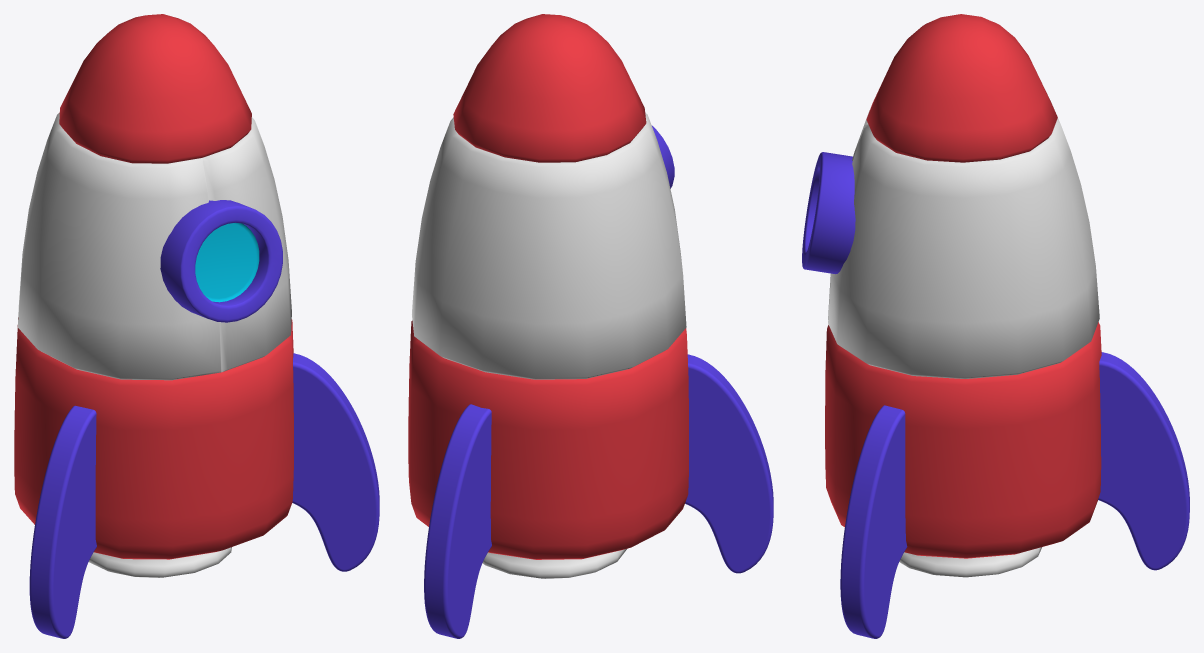
The model's file is rocket.glb.
The picture shows the model from 3 angles, left to right: view 1: azimuth 30°, elevation 25°; view 2: azimuth 150°, elevation 25°; view 3: azimuth 270°, elevation 25°; orthographic projection.
Parts seen in each view (by area): view 1: Rocket.Accent, Rocket.Base, Rocket.Detail, Rocket.Window; view 2: Rocket.Accent, Rocket.Base, Rocket.Detail; view 3: Rocket.Accent, Rocket.Base, Rocket.Detail.
Boxes of the visible parts, left/top/right/bottom form: Rocket.Accent: left=14, top=14, right=293, bottom=559; Rocket.Base: left=18, top=113, right=291, bottom=577; Rocket.Detail: left=29, top=200, right=379, bottom=638; Rocket.Window: left=195, top=223, right=259, bottom=302; Rocket.Accent: left=408, top=14, right=688, bottom=559; Rocket.Base: left=412, top=113, right=686, bottom=578; Rocket.Detail: left=424, top=125, right=773, bottom=638; Rocket.Accent: left=825, top=14, right=1101, bottom=558; Rocket.Base: left=828, top=110, right=1099, bottom=577; Rocket.Detail: left=802, top=152, right=1189, bottom=638.
Size of the model in its own units: 1.4 by 2.11 by 1.36.
